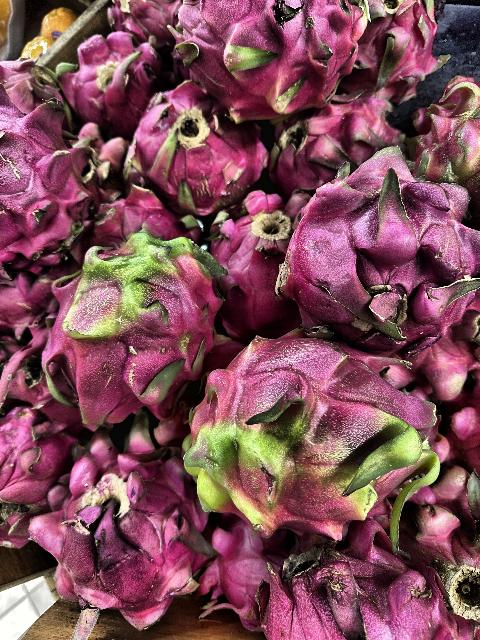buah-naga-belum-matang: (196, 332, 448, 540), (48, 240, 222, 422), (414, 75, 480, 217)
buah-naga-matang: (282, 156, 480, 338), (44, 450, 202, 618), (166, 1, 362, 108), (252, 536, 440, 640), (130, 86, 272, 204), (0, 71, 90, 256), (208, 190, 302, 328), (266, 98, 400, 180), (48, 30, 167, 120), (198, 508, 290, 612), (0, 406, 72, 534), (361, 1, 451, 98), (0, 332, 72, 422)
